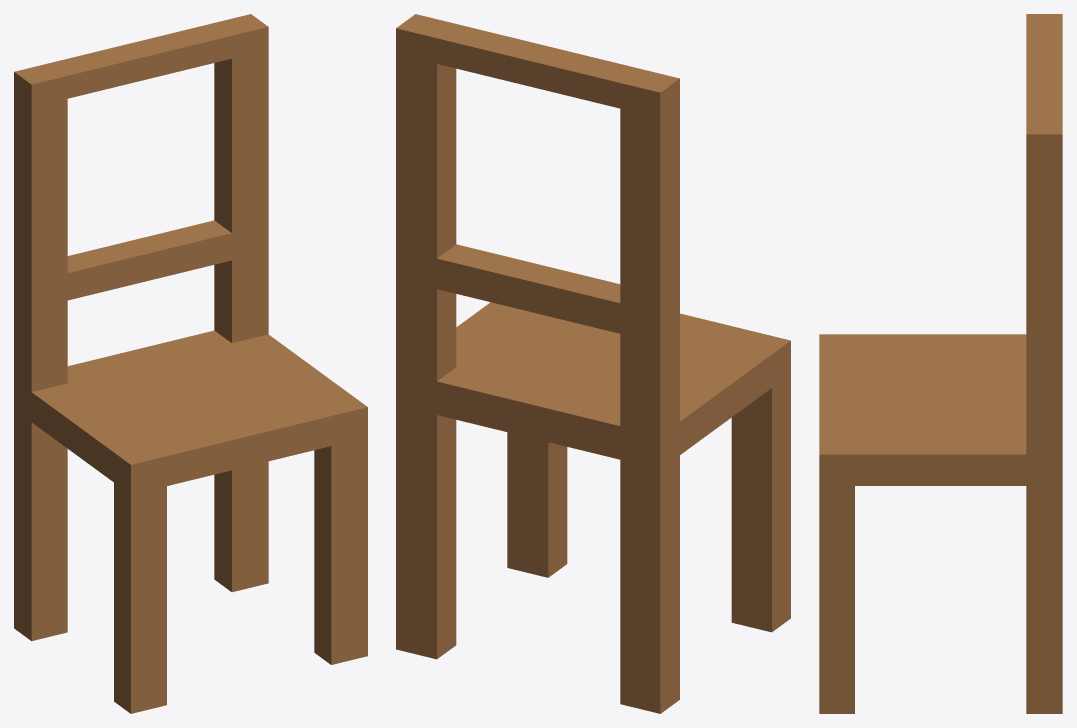
File: Tuoli.fbx
3 renders of one model, left to right at view 1: azimuth 30°, elevation 25°; view 2: azimuth 150°, elevation 25°; view 3: azimuth 270°, elevation 25°, orthographic. The views are drawn at different scales.
Visible parts, largest first — view 1: Tuoli.006; view 2: Tuoli.006; view 3: Tuoli.006.
Part boxes in pixels (<box>): Tuoli.006: <box>14,14,367,713</box>; Tuoli.006: <box>396,14,790,713</box>; Tuoli.006: <box>819,14,1062,713</box>.
Size of the model in its own units: 85.91 by 193 by 73.42.
